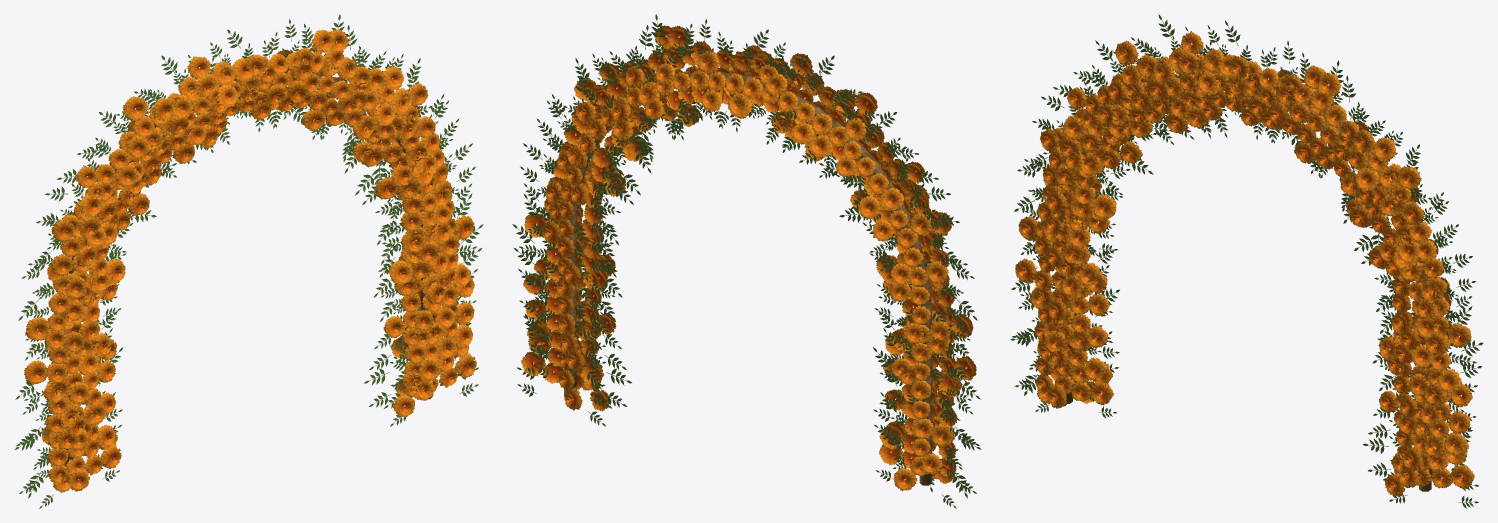
Rendered from arco_cempasuchil.gltf.
3 views of the same model, side by side, from view 1: azimuth 30°, elevation 25°; view 2: azimuth 150°, elevation 25°; view 3: azimuth 330°, elevation 25° (orthographic).
Parts seen in each view (by area): view 1: flores, follaje; view 2: flores, follaje, marco; view 3: flores, follaje.
Part boxes in pixels (x1,y1,x2,y2): flores: (24, 29, 476, 492); follaje: (14, 14, 483, 508); flores: (521, 25, 976, 490); follaje: (512, 14, 981, 508); marco: (564, 71, 932, 485); flores: (1015, 32, 1474, 496); follaje: (1010, 14, 1483, 508).
Bounding box in the file's own units: 3.43 × 3.06 × 0.3428.
3 materials, 3 textured.
